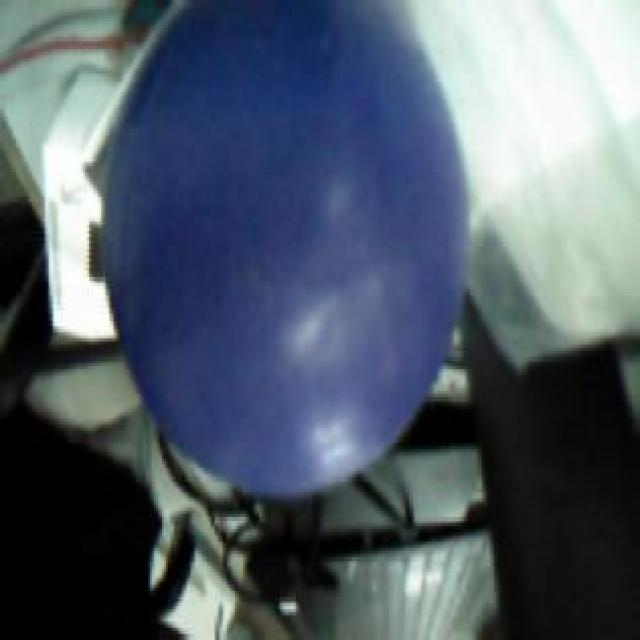BallPurple: (103, 0, 465, 495)
